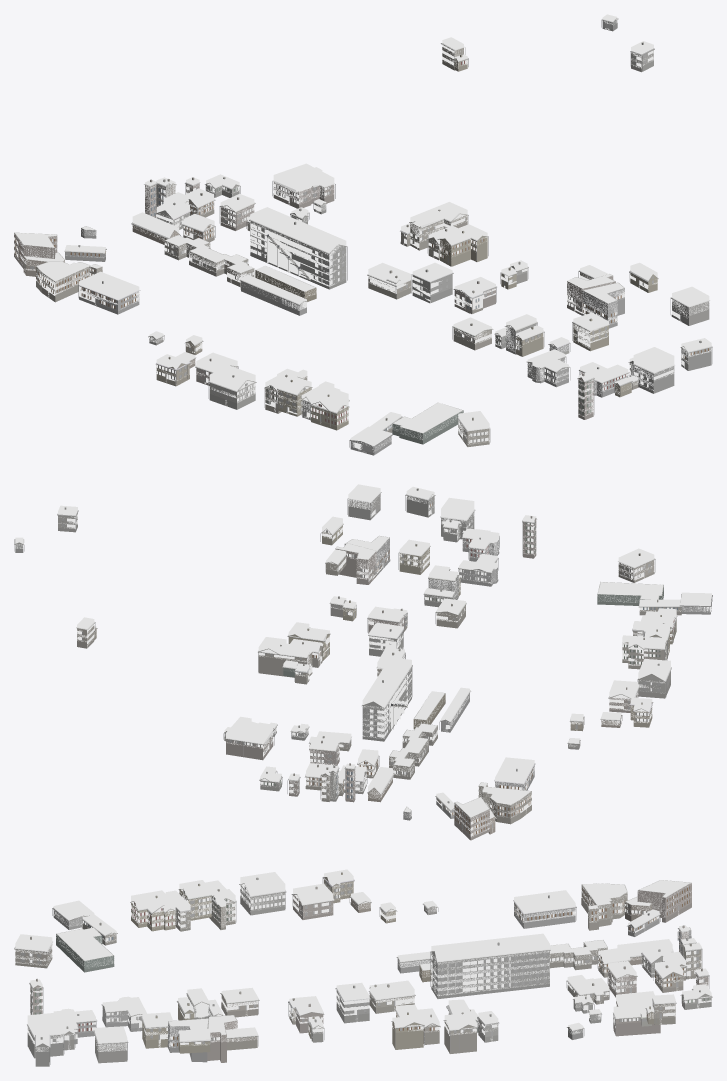
3 renders of one model, top to bottom at view 1: azimuth 30°, elevation 25°; view 2: azimuth 150°, elevation 25°; view 3: azimuth 270°, elevation 25°, orthographic. The views are drawn at different scales.
Visible parts, largest first — view 1: col, bld; view 2: col, bld; view 3: col, bld.
Boxes of the visible parts, <box> form: col: <box>14,14,711,452</box>; bld: <box>14,18,712,455</box>; col: <box>15,484,711,836</box>; bld: <box>14,488,712,840</box>; col: <box>15,869,711,1051</box>; bld: <box>14,872,712,1066</box>.
Size of the model in its own units: 260 by 69.19 by 267.
